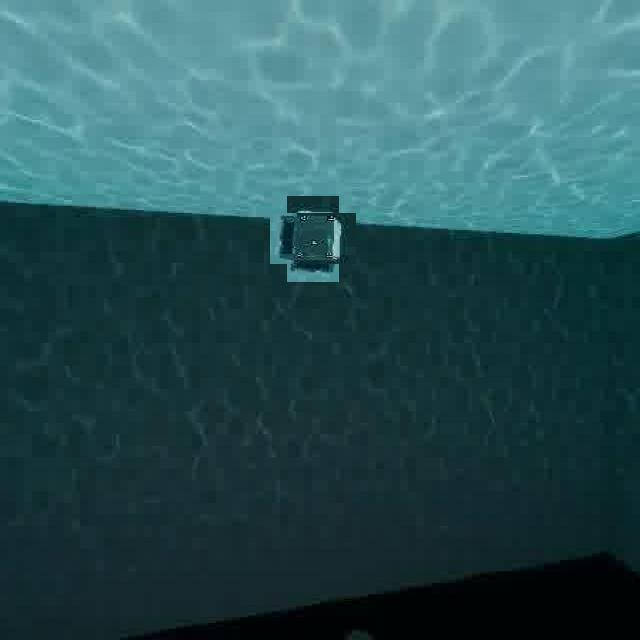Docking Station: (278, 204, 348, 274)
